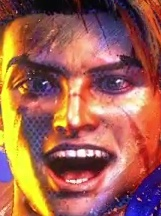kevin: (16, 6, 160, 215)
